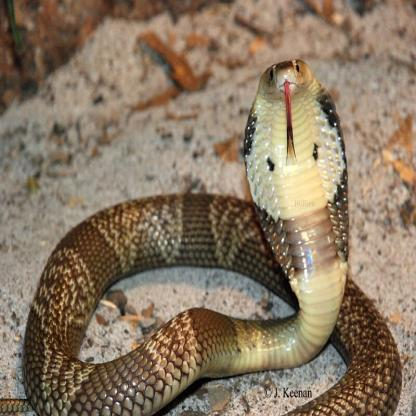Snake: (20, 55, 403, 409)
